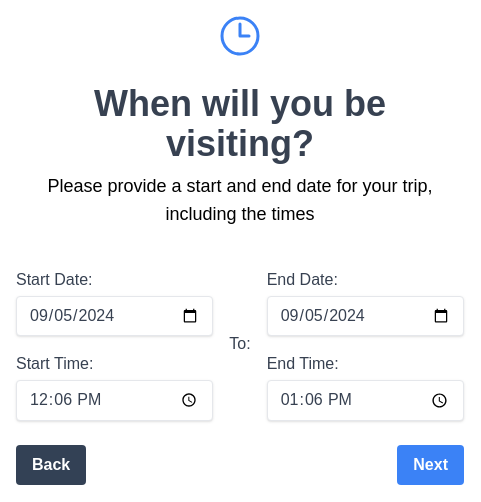
Test: DateTimeInput › user interaction › changing end date to before start date updates start date
This screenshot has width=481, height=502.
# Change end date to 2024-09-04 (before the current start date of 2024-09-05)
Type "2024-09-04" into the date field labelled "End Date:" at (365, 316), box [267,296,464,336]
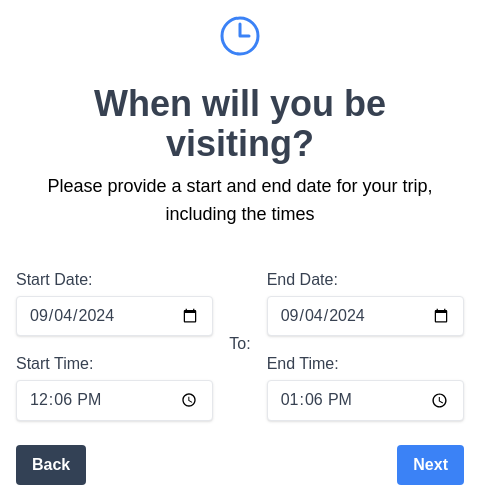
Now the date field labelled "Start Date:" holds "2024-09-04", box [16,296,213,336]
